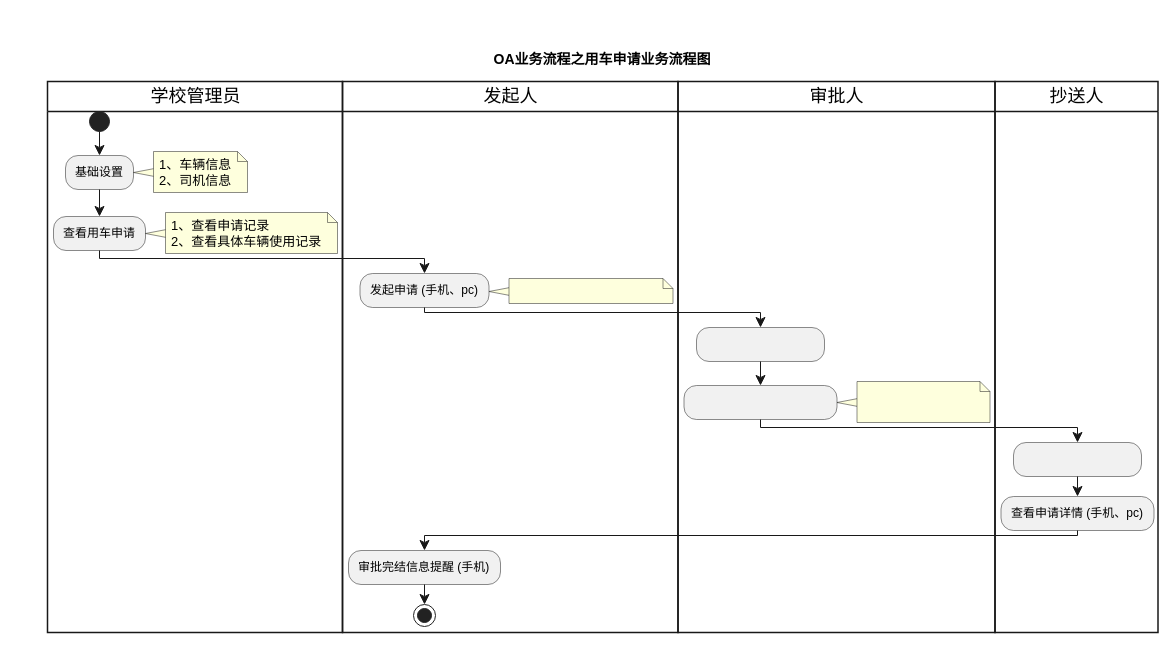
Image size: 1176x650. Some labels were removed from this diagram. The centre of each missing label's shape, as x and y in pixels:
"1、安排车辆、司机 2、审批操作" belongs at point 923,401.
"审批用车申请 (手机、pc)" belongs at point 760,402.
"抄送信息提醒 (手机)" belongs at point 1077,459.
"收到待审提醒 (手机)" belongs at point 760,344.
"流程完结前，可撤销申请" belongs at point 590,290.
